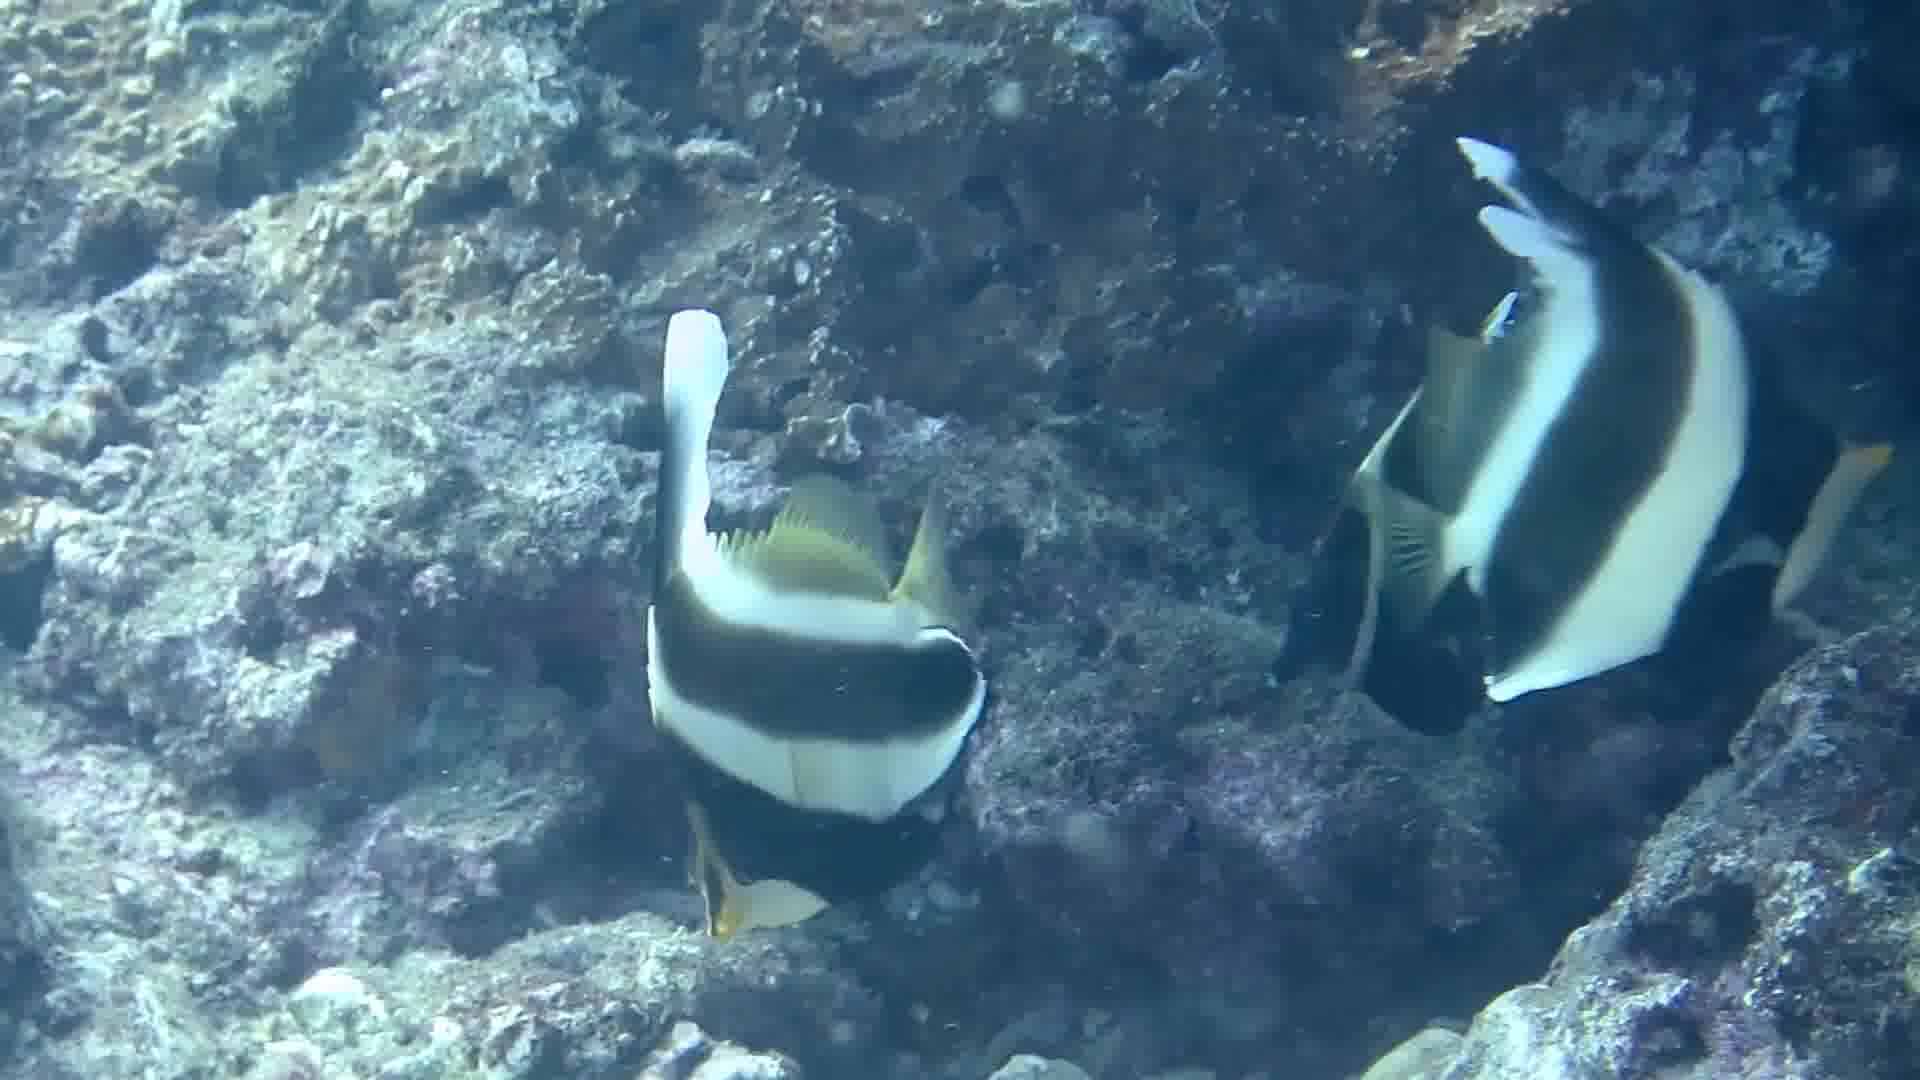Heniochus chrysostomus: (495, 243, 1164, 975), (1251, 75, 1920, 807)
